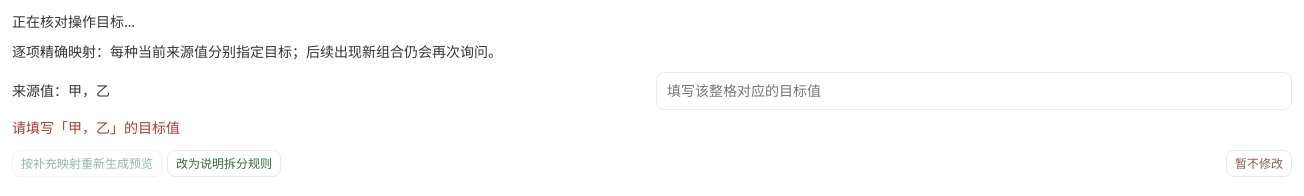
Test: 本地映射补全卡 · 两宿主共用 › 分析后目标又变化：独立目标检查阻止计算，业务表单保留答案而不新增授权框
This screenshot has width=1304, height=196.
Type "高" into the field named "来源值 甲，乙 的目标值" at (974, 91), box [656,72,1292,110]
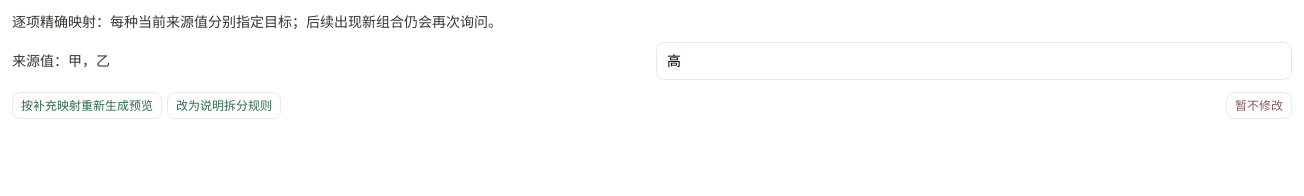
Now the button "按补充映射重新生成预览" is enabled
Click the button "按补充映射重新生成预览" at (87, 106), box [12,92,162,119]
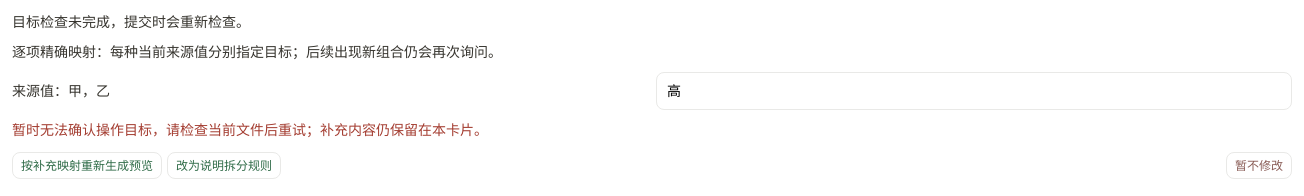
Now the message "暂时无法确认操作目标，请检查当前文件后重试；补充内容仍保留在本卡片。" is shown, box [12,120,488,139]
